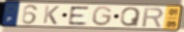6: (21, 4, 40, 25)
E: (68, 6, 91, 26)
G: (92, 5, 114, 27)
K: (41, 5, 61, 26)
Q: (119, 7, 142, 28)
R: (141, 7, 165, 28)
